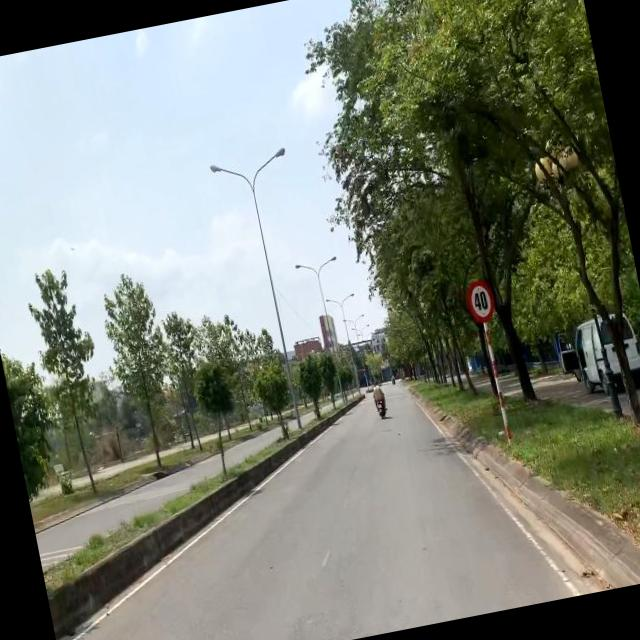P-127: (463, 278, 496, 320)
